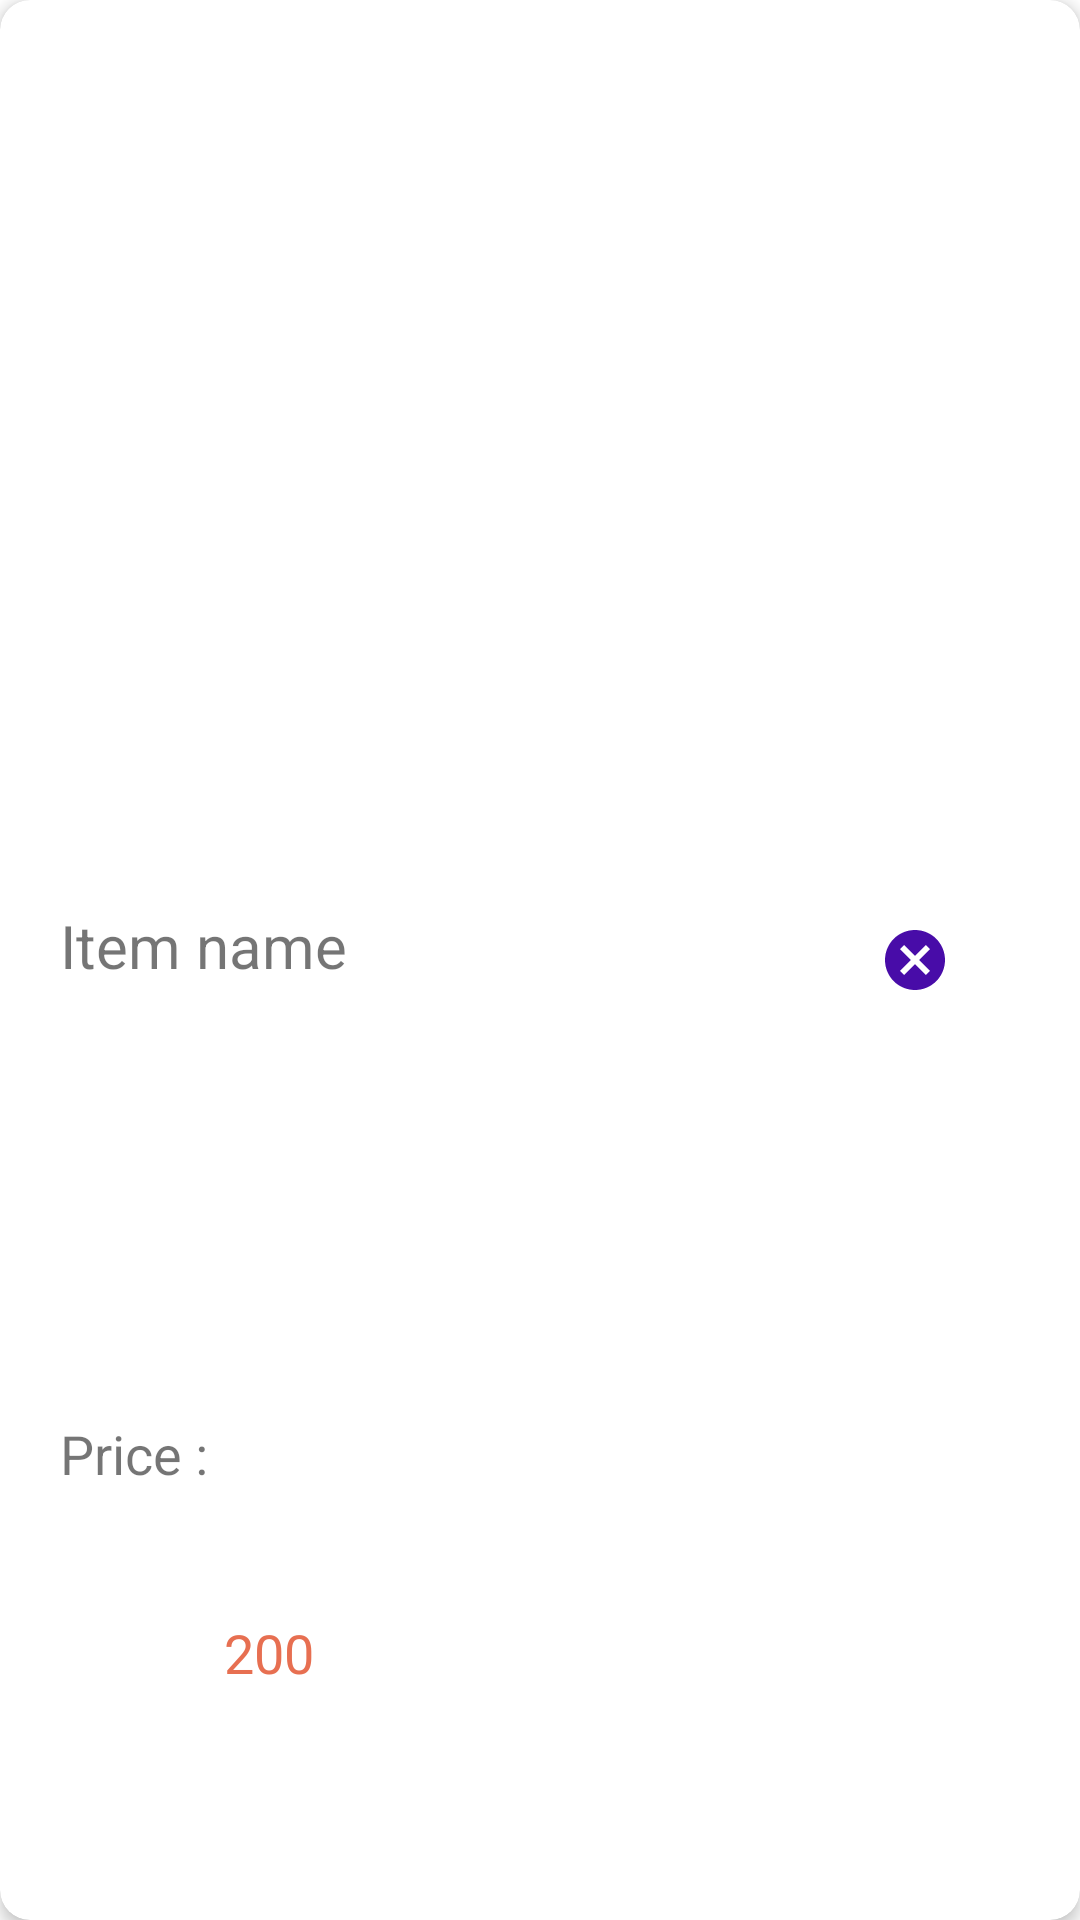

Where icons sit on this 1080 x 1920 app screen, as bbox(x1, y1, x2, y2):
cancel: bbox(885, 930, 945, 990)
